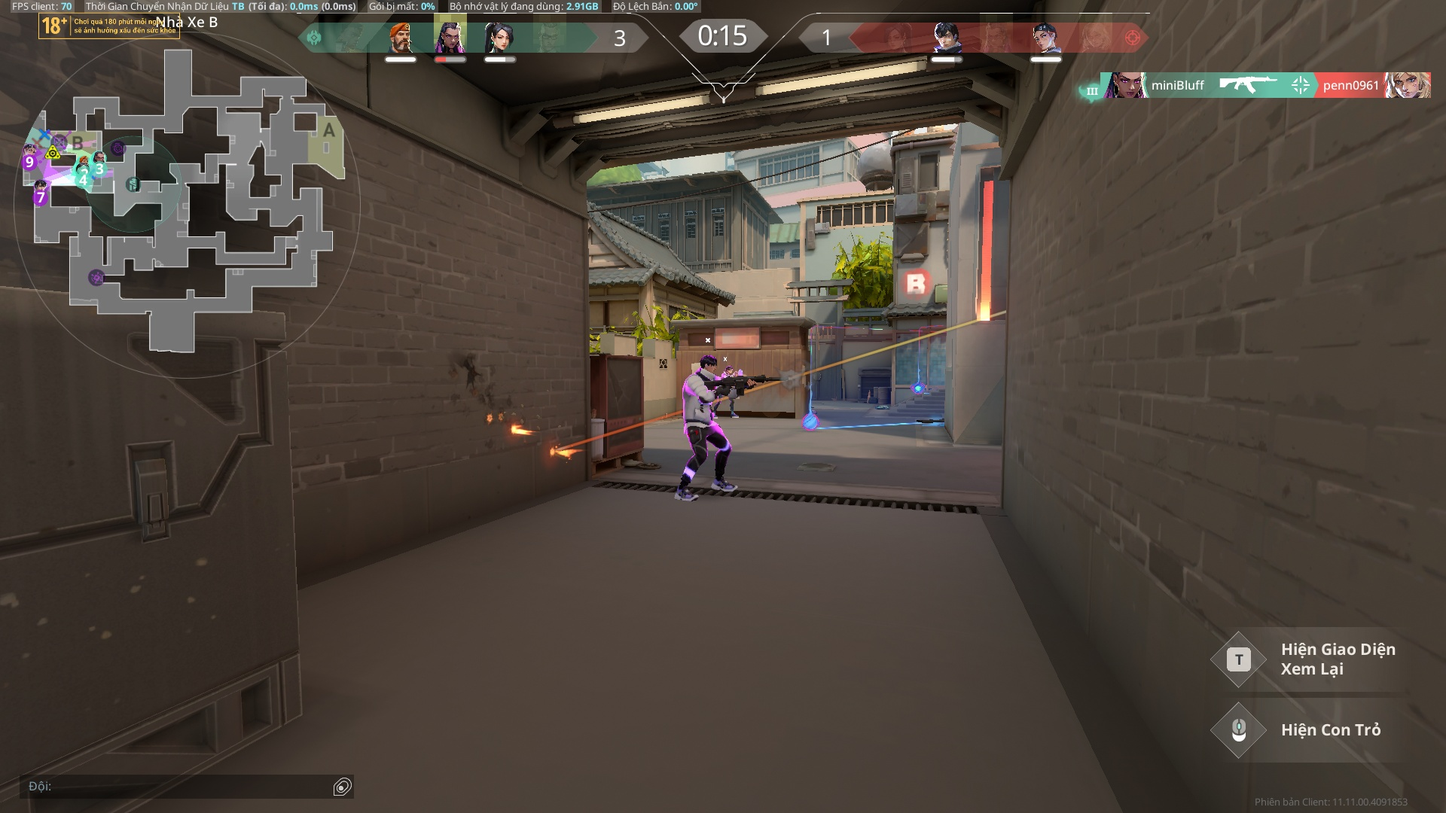body: (682, 371, 717, 425), (720, 371, 731, 377)
head: (700, 354, 715, 370), (725, 364, 733, 372)
